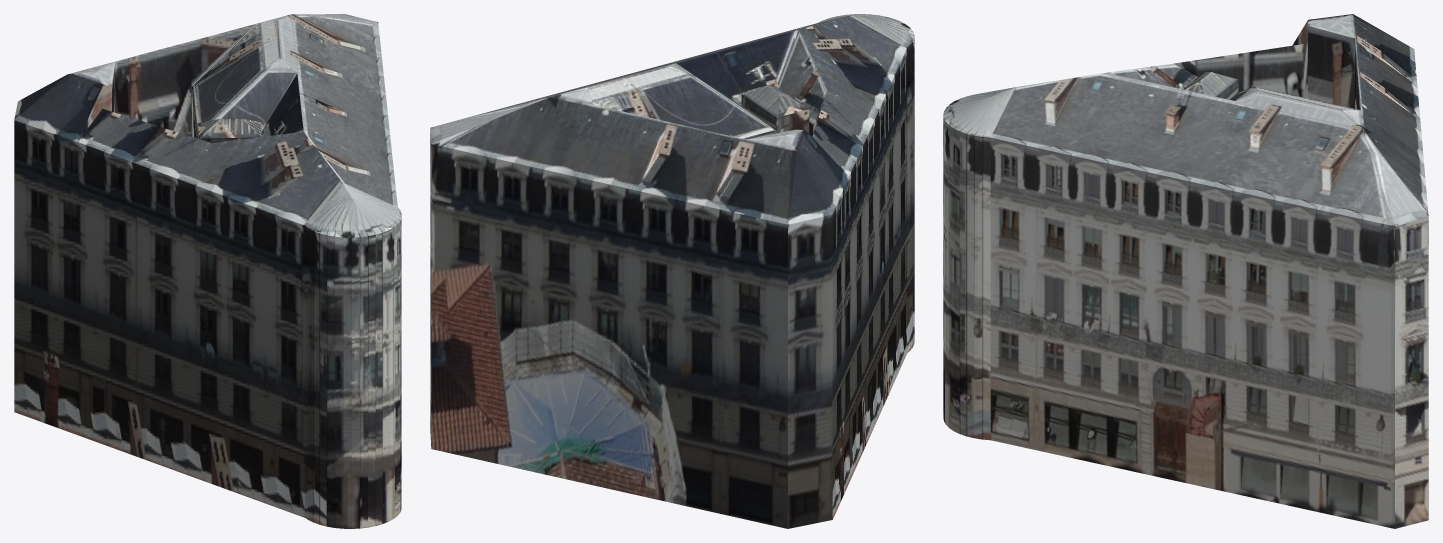
3 renders of one model, left to right at view 1: azimuth 30°, elevation 25°; view 2: azimuth 150°, elevation 25°; view 3: azimuth 270°, elevation 25°, orthographic. The views are drawn at different scales.
Parts seen in each view (by area): view 1: Z_UP; view 2: Z_UP; view 3: Z_UP.
Boxes of the visible parts, <box> form: Z_UP: <box>14,14,401,528</box>; Z_UP: <box>430,14,914,528</box>; Z_UP: <box>943,14,1428,528</box>.
Bounding box in the file's own units: 25.3 × 22.11 × 27.36.
Materials: 2 (1 with a texture image).
